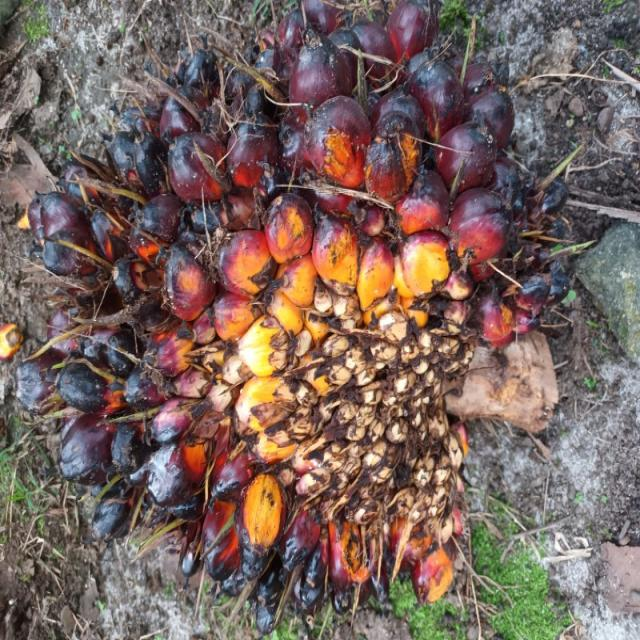fraksi 1: (38, 6, 464, 640)
